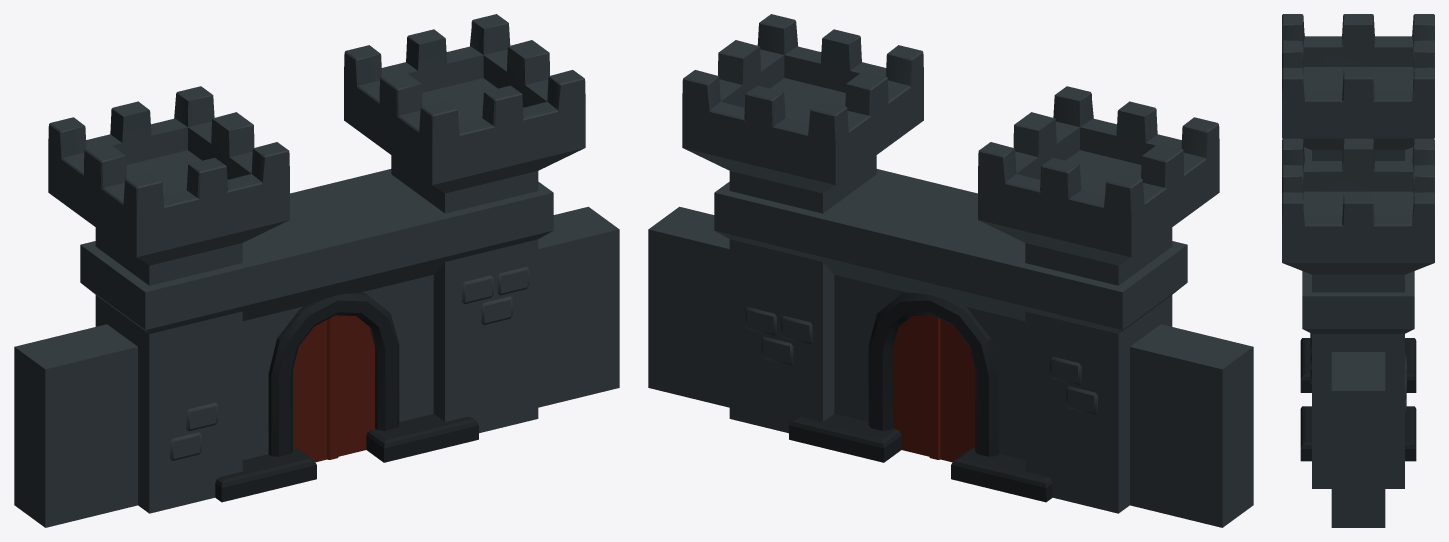
File: wall_gate_closed.obj
3 views of the same model, side by side, from view 1: azimuth 30°, elevation 25°; view 2: azimuth 150°, elevation 25°; view 3: azimuth 270°, elevation 25° (orthographic). The views are drawn at different scales.
Parts seen in each view (by area): view 1: wall_gate_closed_Cube.406; view 2: wall_gate_closed_Cube.406; view 3: wall_gate_closed_Cube.406.
Part boxes in pixels (x1=…): wall_gate_closed_Cube.406: x1=14, y1=14, x2=619, y2=527; wall_gate_closed_Cube.406: x1=648, y1=14, x2=1253, y2=527; wall_gate_closed_Cube.406: x1=1282, y1=14, x2=1434, y2=527.
Bounding box in the file's own units: 2 × 1.15 × 0.5343.
